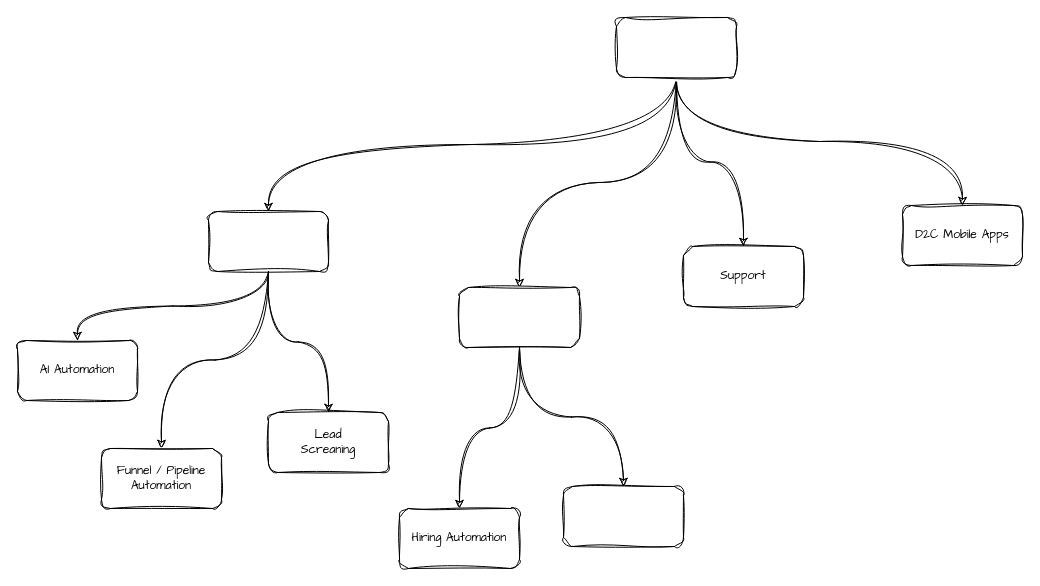
Some shapes in this 1040 by 586 pixel diagram are drawn without their labels. Each missing label, with the centre of its shape:
"Hackathon 2026" goes at (676,47).
"HR" goes at (519,317).
"Sales" goes at (268,241).
